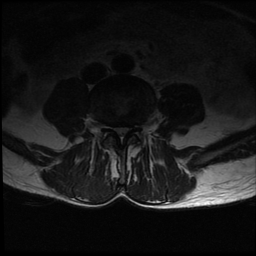CCS_normal: (119, 123, 124, 148)
LFS_severe_stenosis: (130, 120, 136, 135)
LLS_severe_stenosis: (124, 123, 129, 140)
RFS_severe_stenosis: (107, 120, 114, 137)
RLS_stenosis: (114, 123, 119, 139)
